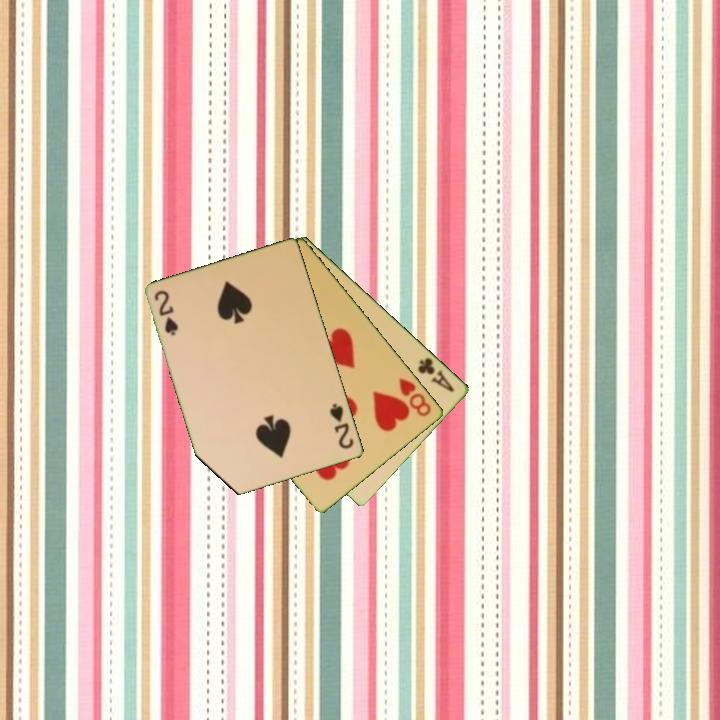2s: (151, 287, 182, 339), (327, 400, 357, 452)
8h: (396, 374, 434, 420)
Ac: (414, 354, 457, 395)
